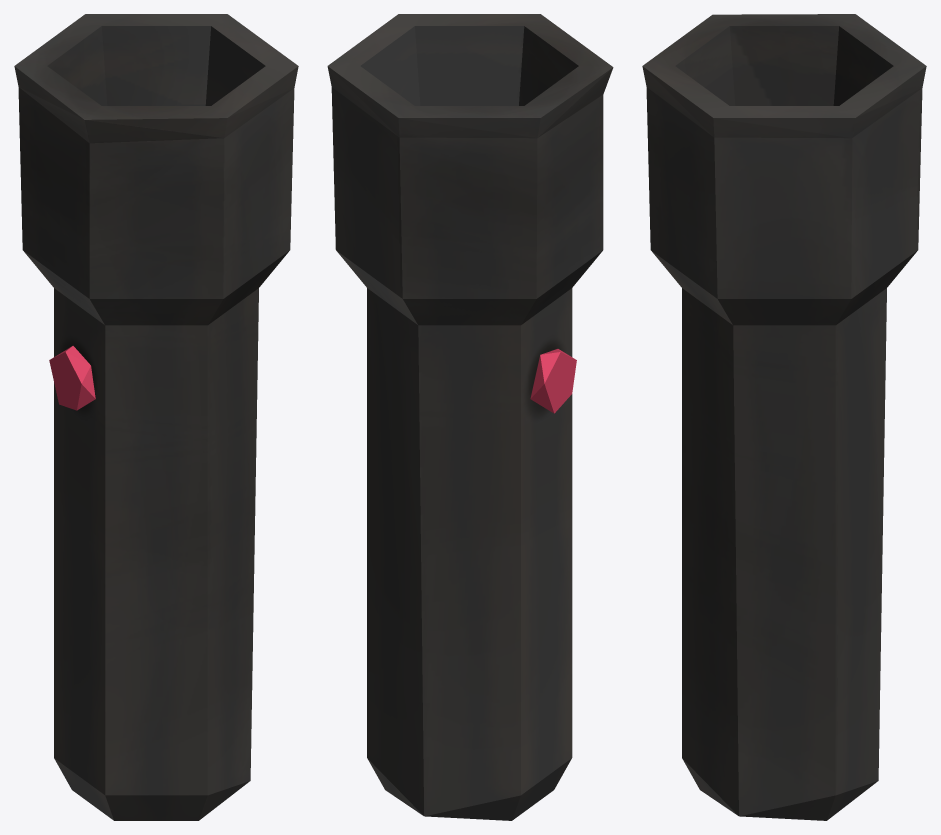
File: FlashLight_01.fbx
The picture shows the model from 3 angles, left to right: view 1: azimuth 30°, elevation 25°; view 2: azimuth 150°, elevation 25°; view 3: azimuth 270°, elevation 25°; orthographic projection.
Visible parts, largest first — view 1: FlashLight_01; view 2: FlashLight_01; view 3: FlashLight_01.
Boxes of the visible parts, bbox=[...] form: FlashLight_01: bbox=[14, 14, 298, 820]; FlashLight_01: bbox=[327, 14, 613, 820]; FlashLight_01: bbox=[642, 14, 926, 820].
Size of the model in its own units: 4.78 by 15.4 by 5.48.
Materials: 3 (1 with a texture image).
